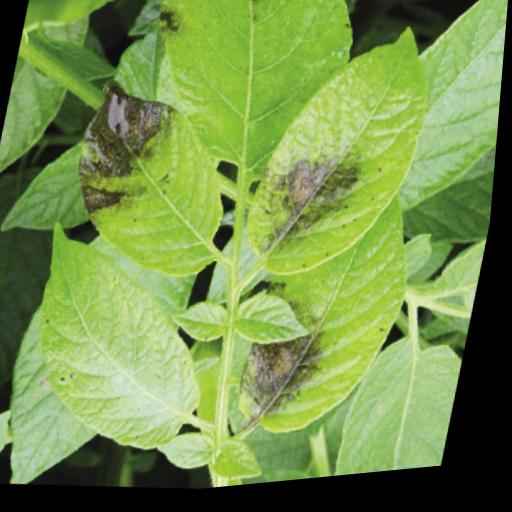Late Blight: (240, 16, 449, 300), (233, 188, 425, 461), (63, 69, 258, 290)
